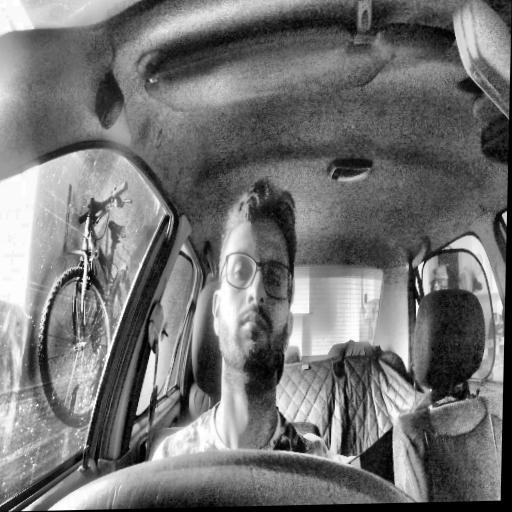awake: (211, 179, 300, 387)
